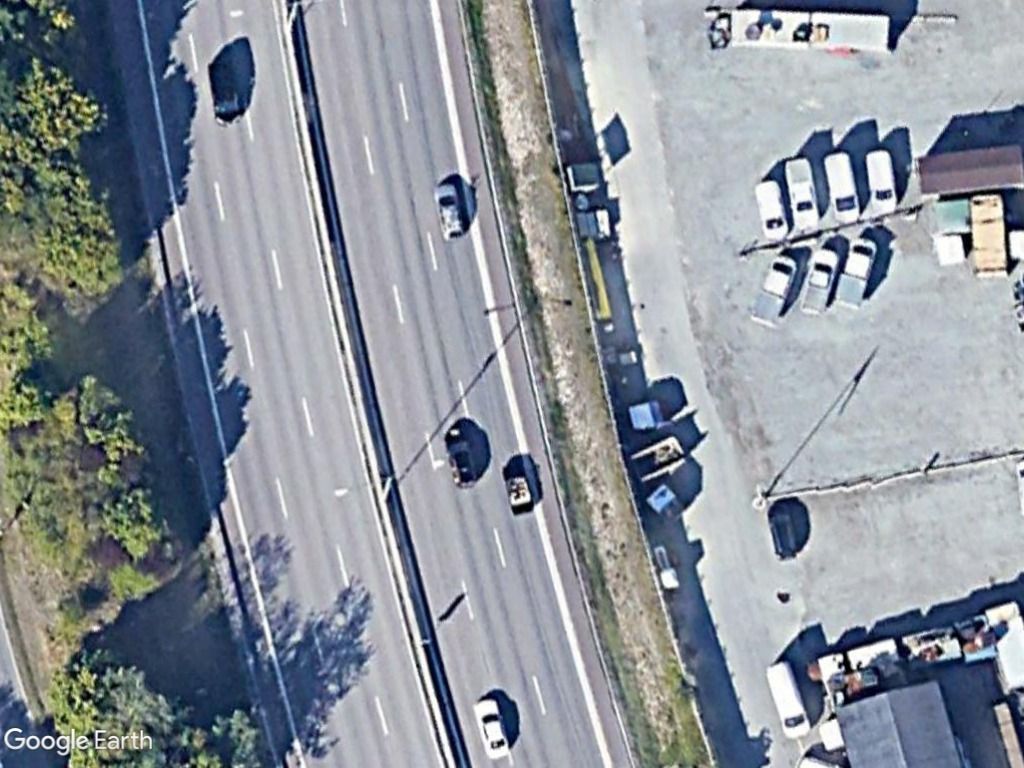car: (471, 697, 514, 766), (752, 175, 792, 245), (442, 424, 482, 492), (433, 179, 469, 244)
other: (829, 235, 882, 310), (779, 153, 825, 232), (753, 250, 799, 326), (794, 243, 839, 318)
van: (765, 655, 815, 742), (822, 148, 862, 227), (863, 145, 901, 217)
